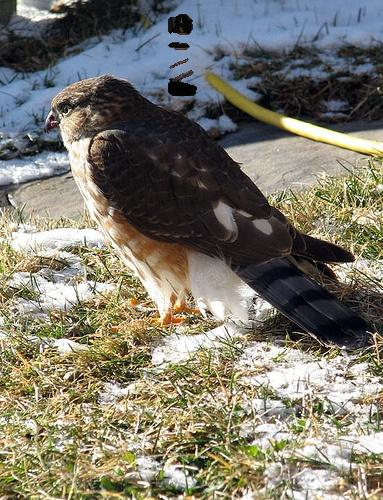tampered: (169, 15, 197, 96)
